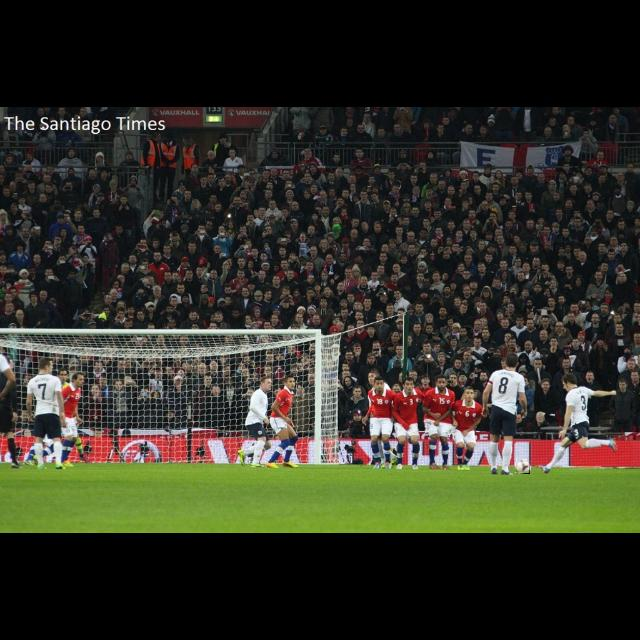Football: (516, 460, 530, 474)
